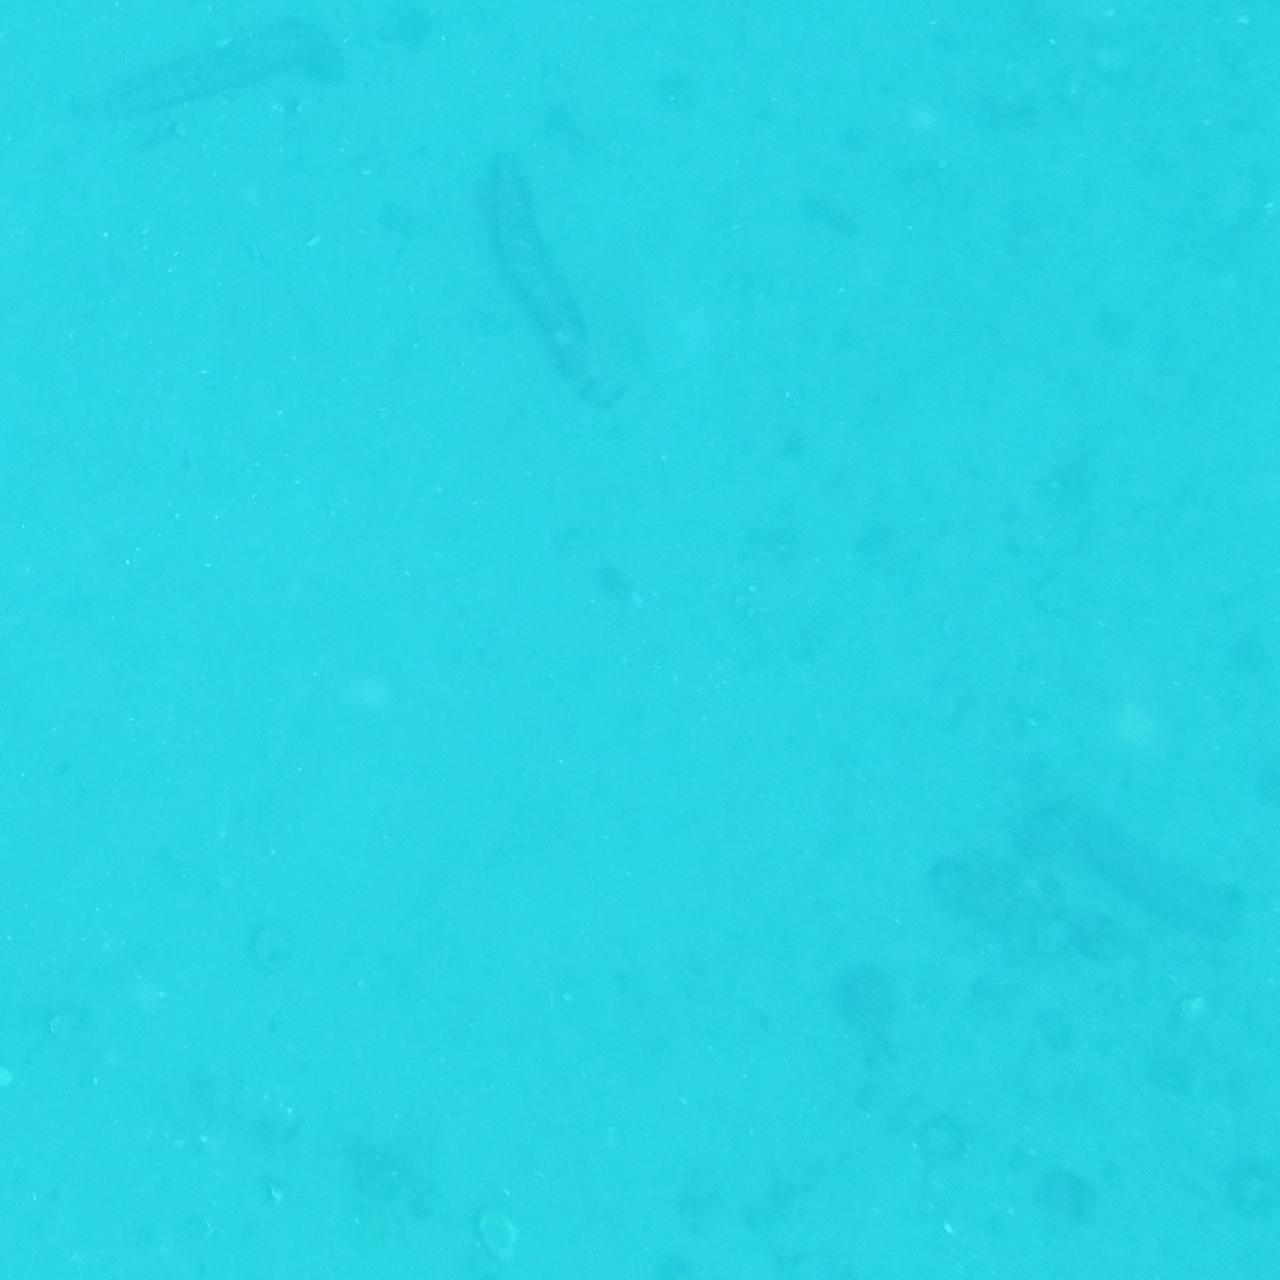Holothuria tubulosa: (1019, 777, 1278, 946), (463, 149, 622, 400), (74, 7, 370, 101), (806, 1220, 1046, 1280), (38, 0, 226, 55)
